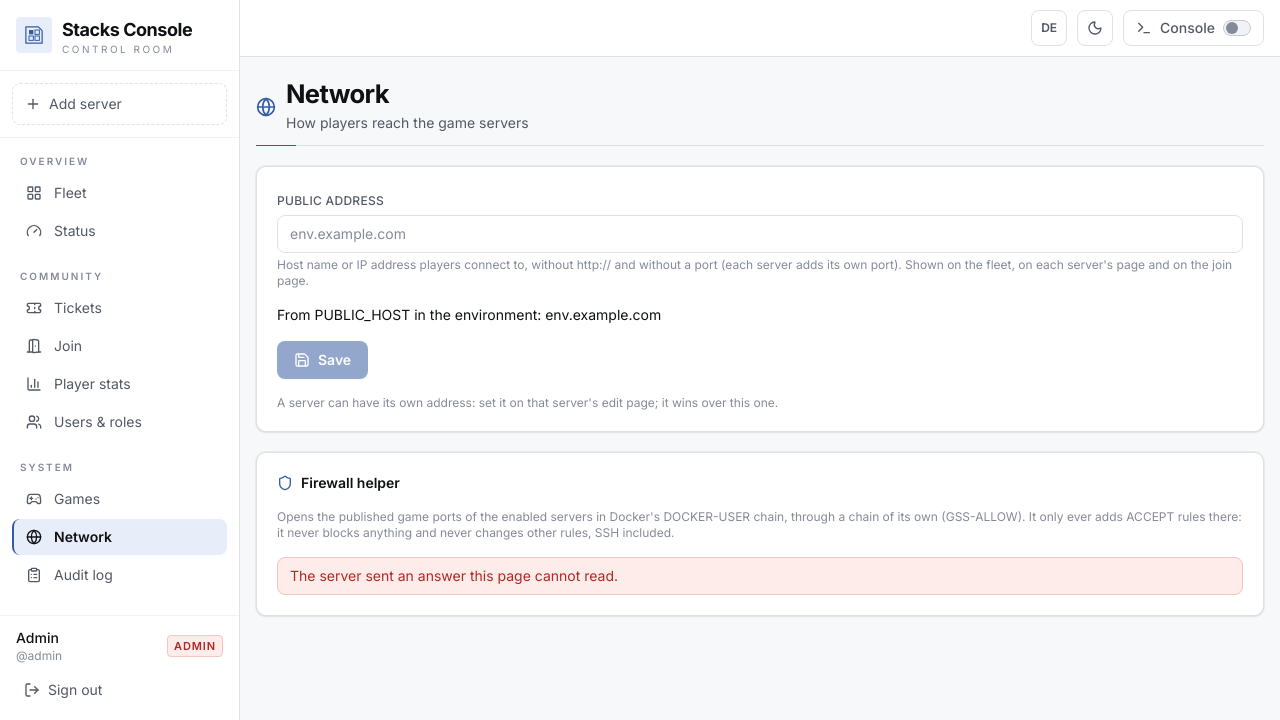
Test: Settings → Network › says the address comes from PUBLIC_HOST, saves one over it, and clears back to it
Expected: the text with test id "public-host-source" reads "From PUBLIC_HOST in the environment: env.example.com", x1=277 y1=306 x2=661 y2=323
In the field labelled "Public address": (760, 234) x1=277 y1=215 x2=1243 y2=253, type "Play.Example.com"
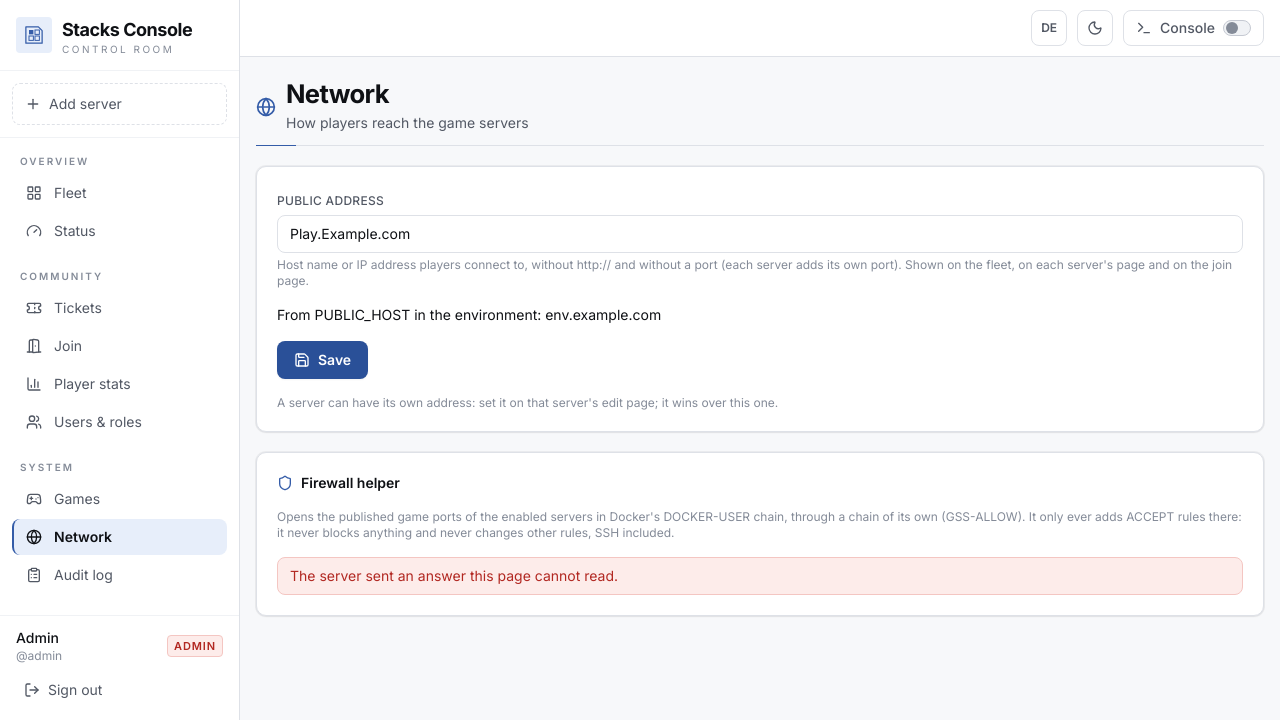
Click the button "Save": (323, 360) x1=277 y1=341 x2=368 y2=379
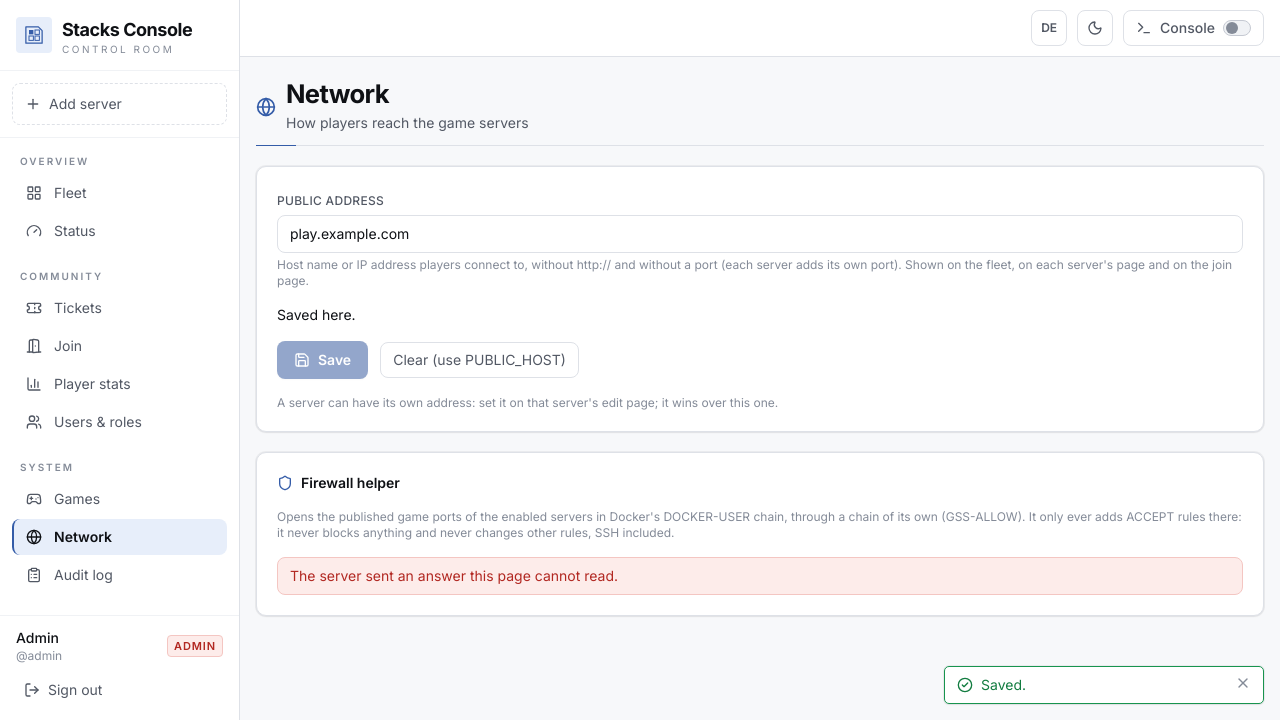
Expected: the text with test id "public-host-source" reads "Saved here.", x1=277 y1=306 x2=356 y2=323
Click the button "Clear (use PUBLIC_HOST)": (480, 360) x1=380 y1=342 x2=579 y2=378
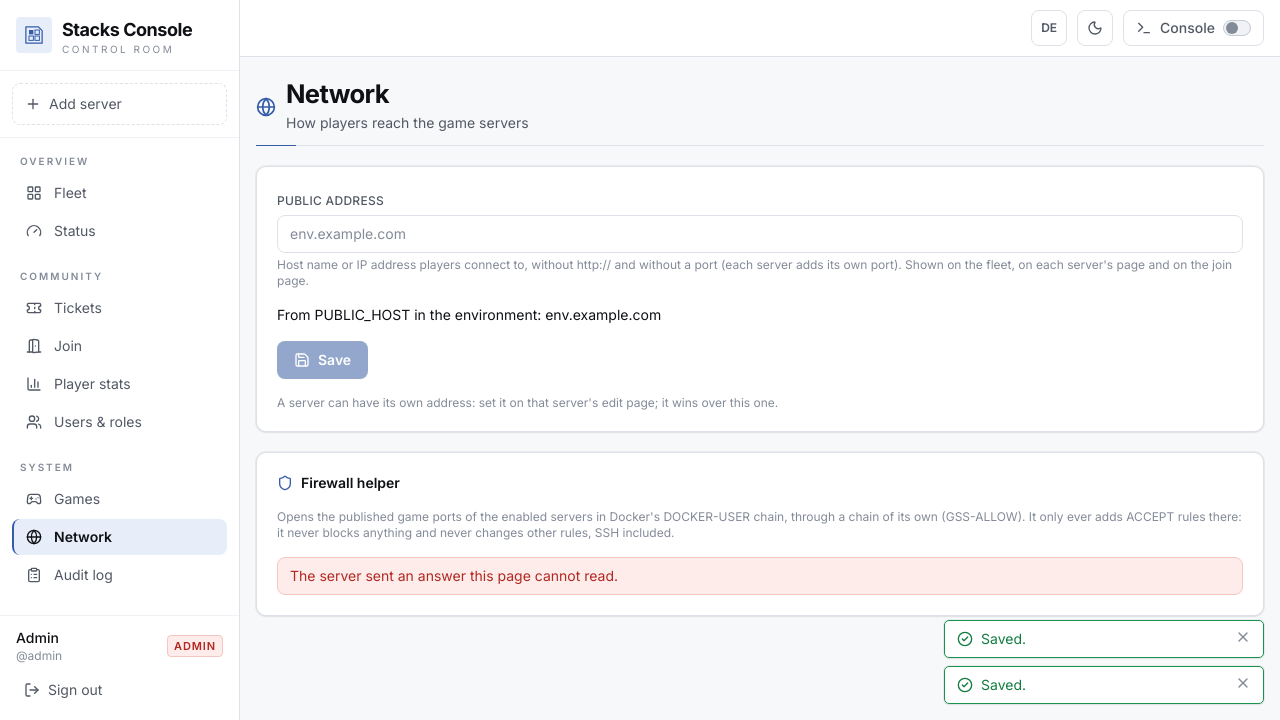
Expected: the text with test id "public-host-source" shows "From PUBLIC_HOST", x1=277 y1=306 x2=661 y2=323
